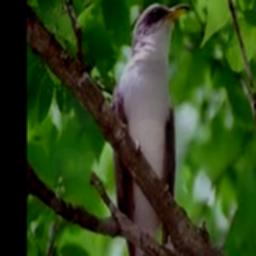Cuckoo: (111, 1, 189, 256)
